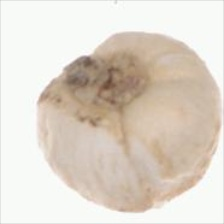L4: (36, 32, 222, 213)
